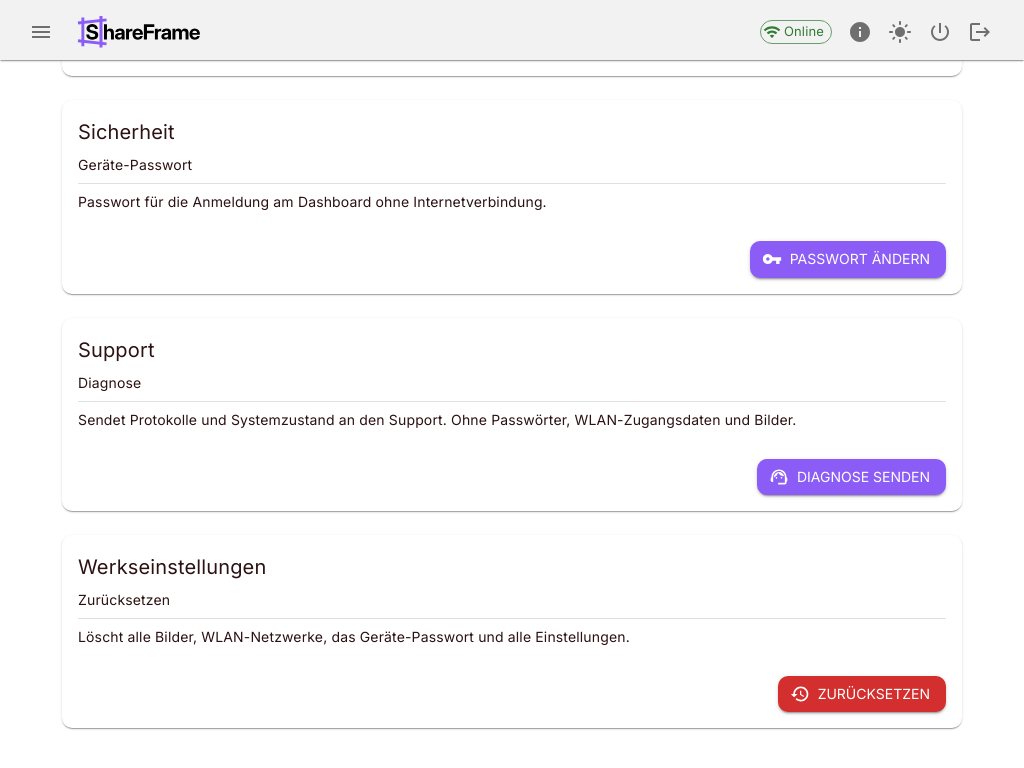
Scenario: power › does not reset when the dialog is cancelled
(page scrolled)
What coordinates should you click on to do the following:
click the button "Zurücksetzen"
I would click on:
 (862, 694)
Its box is [778, 676, 946, 712].
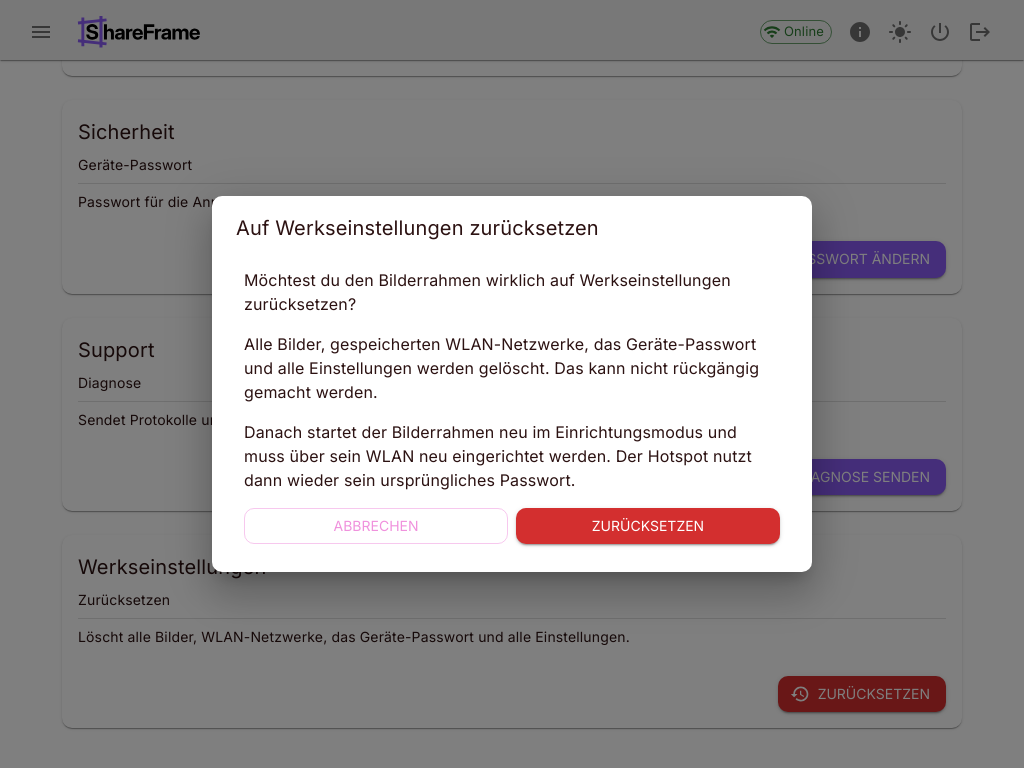
What coordinates should you click on to do the following:
click the button "Abbrechen"
I would click on:
 (376, 526)
Its box is [244, 508, 508, 544].
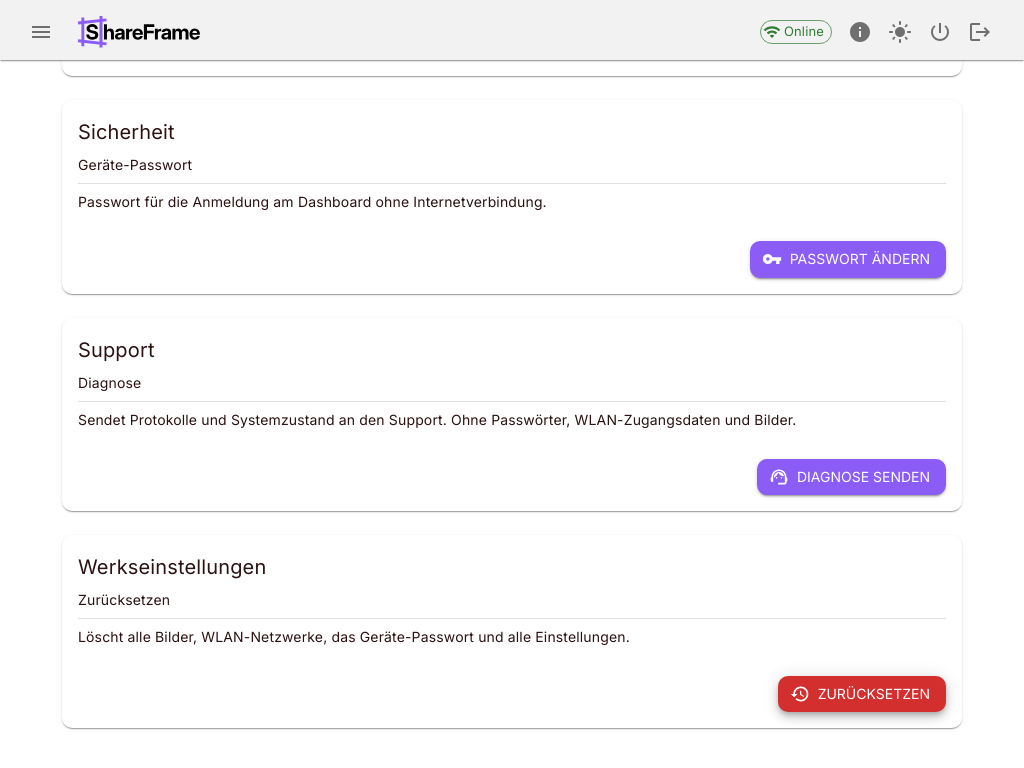
Result: the dialog is gone
